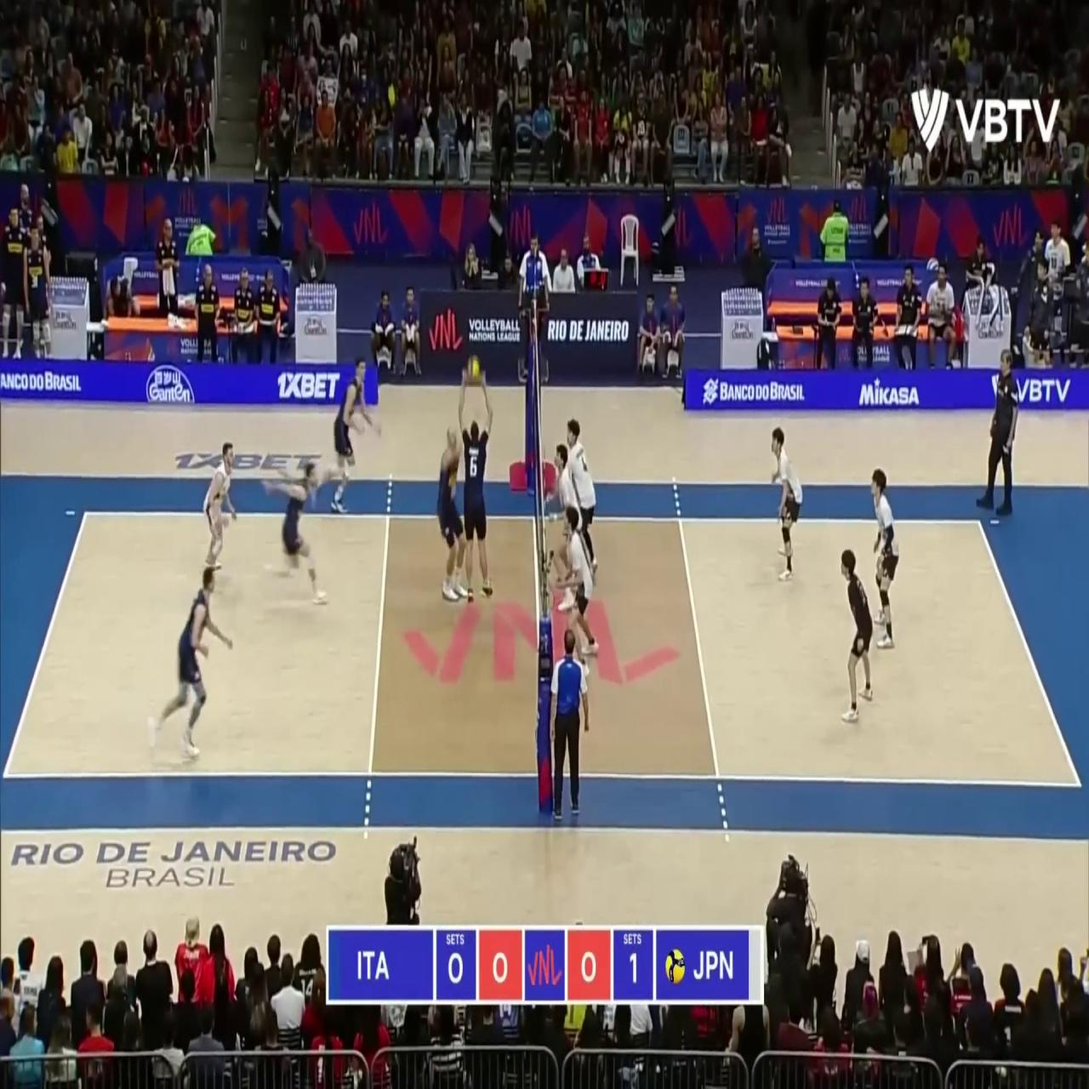ball: (468, 357, 480, 381)
